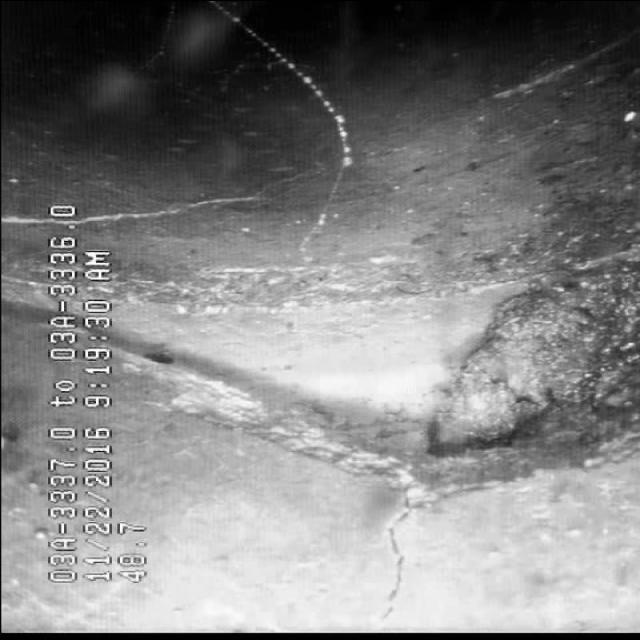Fracture: (201, 279, 601, 618)
